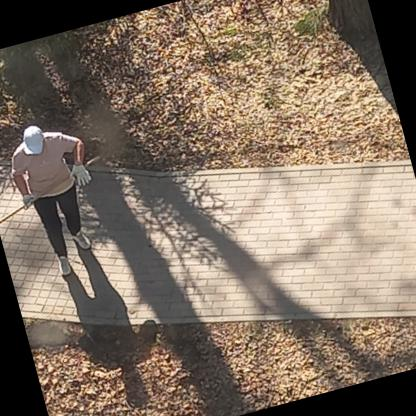Human Body: (2, 116, 114, 283)
